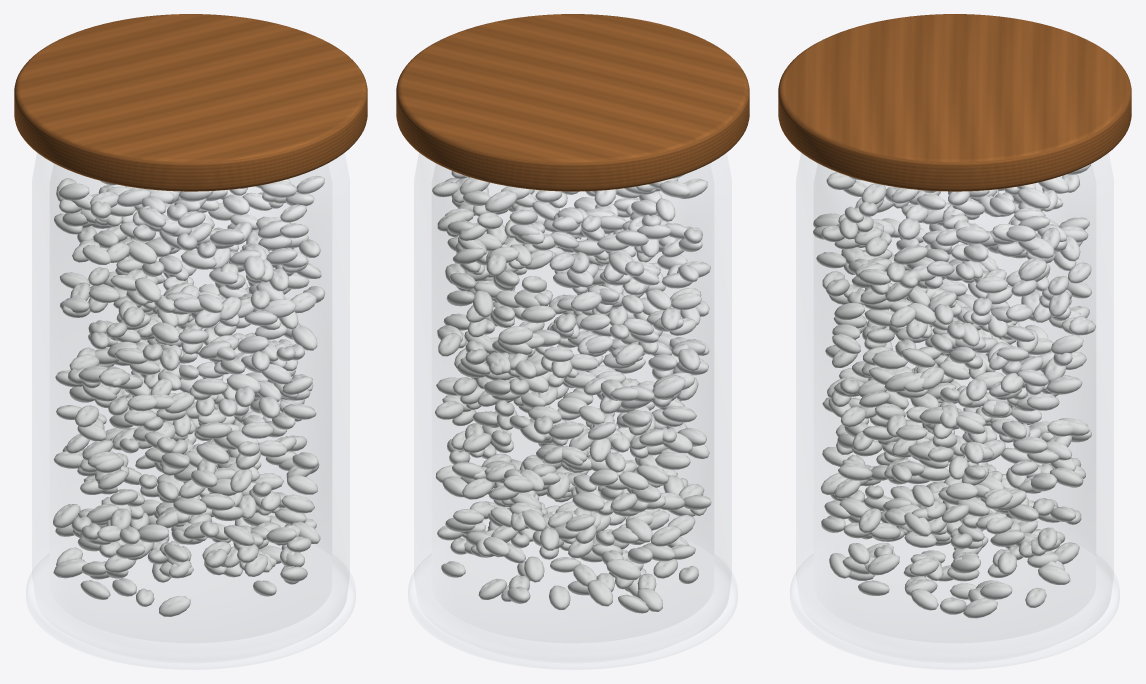
The model's file is CoffeeBeanJar_120x120x194mm.fbx.
3 views of the same model, side by side, from view 1: azimuth 30°, elevation 25°; view 2: azimuth 150°, elevation 25°; view 3: azimuth 270°, elevation 25° (orthographic).
Parts seen in each view (by area): view 1: CoffeeBeanJar_Glass, CoffeeBeanJar_WoodLid, CoffeeBeanJar_GlassBase; view 2: CoffeeBeanJar_Glass, CoffeeBeanJar_WoodLid, CoffeeBeanJar_GlassBase, CoffeeBeanJar_InteriorBean_071, CoffeeBeanJar_InteriorBean_363, CoffeeBeanJar_InteriorBean_497, CoffeeBeanJar_InteriorBean_697; view 3: CoffeeBeanJar_Glass, CoffeeBeanJar_WoodLid, CoffeeBeanJar_GlassBase, CoffeeBeanJar_InteriorBean_026.
Boxes of the visible parts, <box> form: CoffeeBeanJar_Glass: <box>32,153,349,643</box>; CoffeeBeanJar_WoodLid: <box>14,14,367,191</box>; CoffeeBeanJar_GlassBase: <box>26,573,355,669</box>; CoffeeBeanJar_Glass: <box>414,153,731,643</box>; CoffeeBeanJar_WoodLid: <box>396,14,749,191</box>; CoffeeBeanJar_GlassBase: <box>408,573,737,669</box>; CoffeeBeanJar_InteriorBean_071: <box>606,559,641,580</box>; CoffeeBeanJar_InteriorBean_363: <box>652,376,685,399</box>; CoffeeBeanJar_InteriorBean_497: <box>498,326,533,345</box>; CoffeeBeanJar_InteriorBean_697: <box>485,190,517,212</box>; CoffeeBeanJar_Glass: <box>796,153,1113,643</box>; CoffeeBeanJar_WoodLid: <box>778,14,1131,191</box>; CoffeeBeanJar_GlassBase: <box>790,573,1119,669</box>; CoffeeBeanJar_InteriorBean_026: <box>963,598,997,618</box>.
Size of the model in its own units: 0.12 by 0.194 by 0.12.
Materials: 4 (1 with a texture image).
